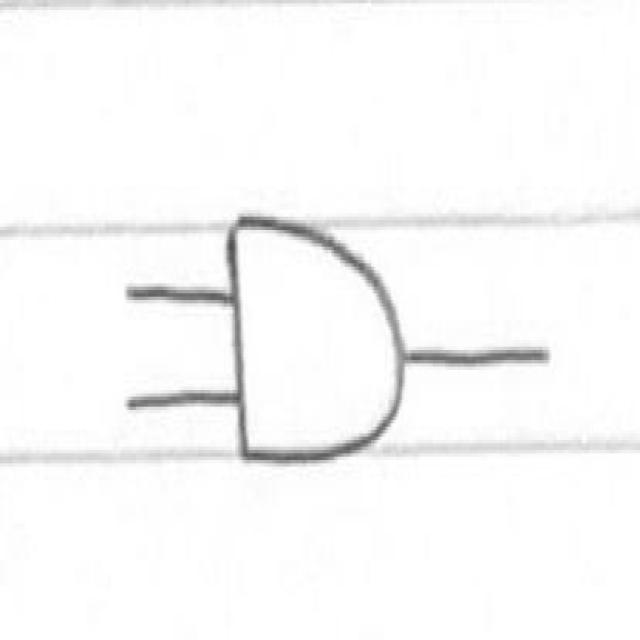AND: (214, 182, 426, 498)
